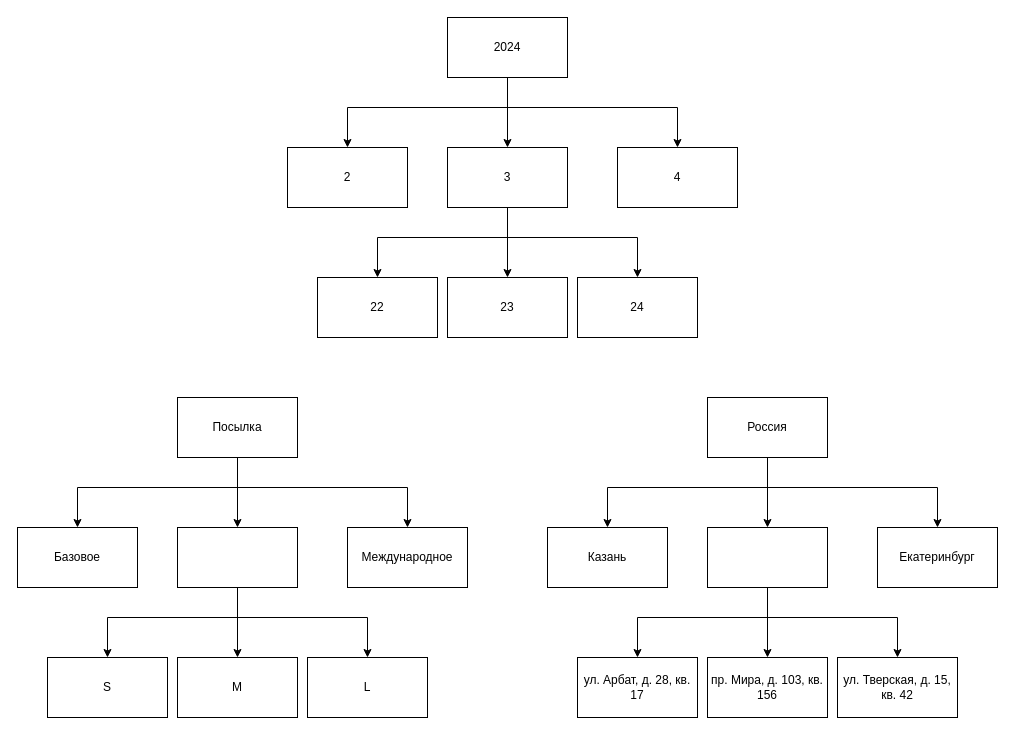
This 1015x735 diagram has some shape labels left out. The shapes that lost their labels are listed below. From the top down, each one's centre as x and y in pixels, then its label:
At [237,557]: "Стандарт".
At [767,557]: "Москва".
